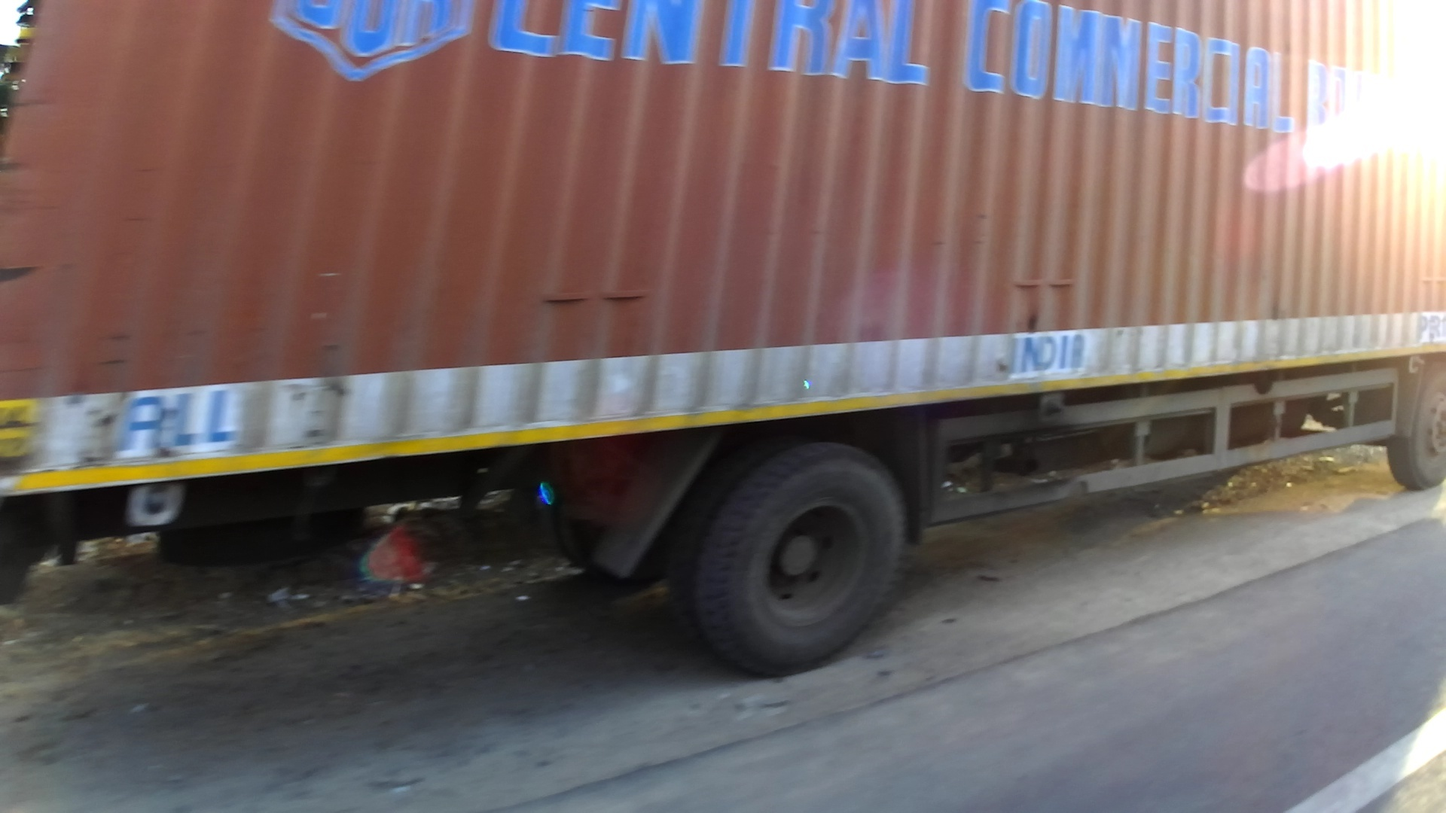truck: (2, 0, 1445, 679)
